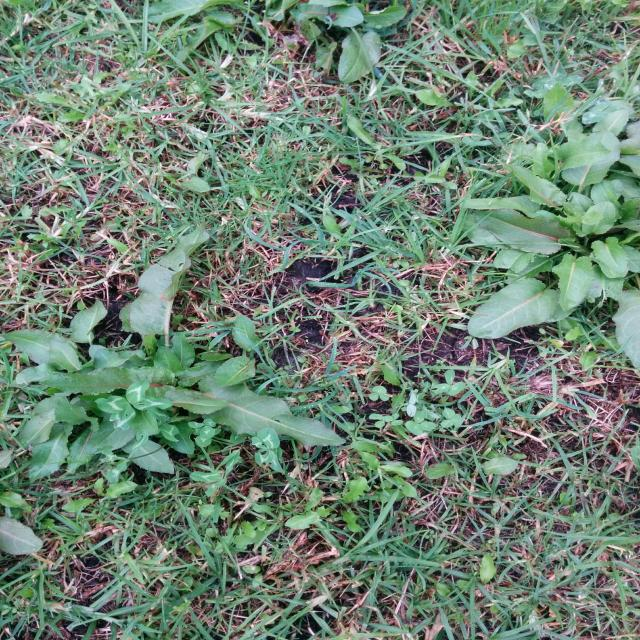Four Leaf Clover: (95, 379, 173, 431)
